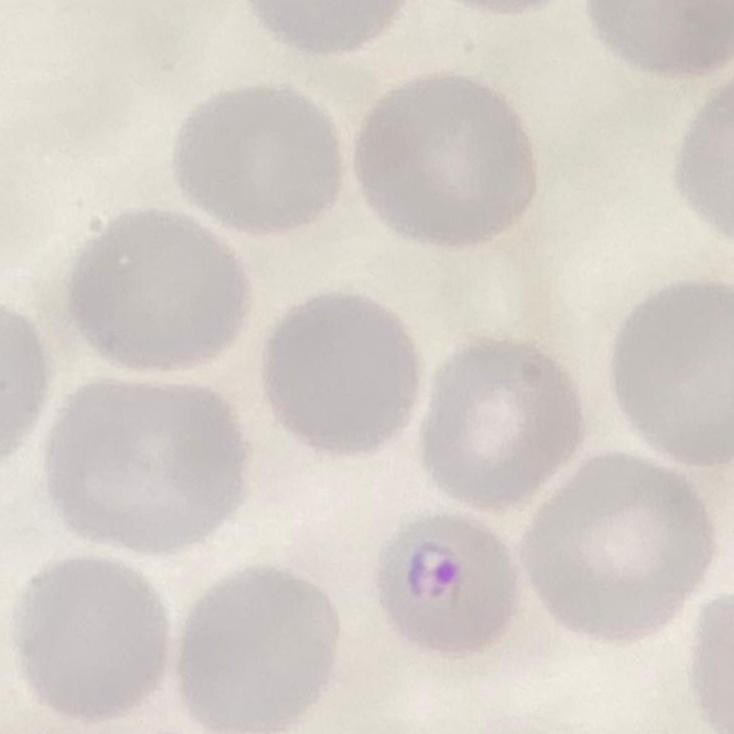Infected: (376, 511, 518, 663)
Uninfected: (522, 453, 717, 648), (44, 377, 253, 554), (356, 79, 541, 252), (70, 207, 253, 373), (420, 337, 582, 505), (266, 291, 423, 461), (172, 87, 345, 241), (176, 569, 337, 734), (14, 553, 170, 723), (610, 281, 734, 473)
